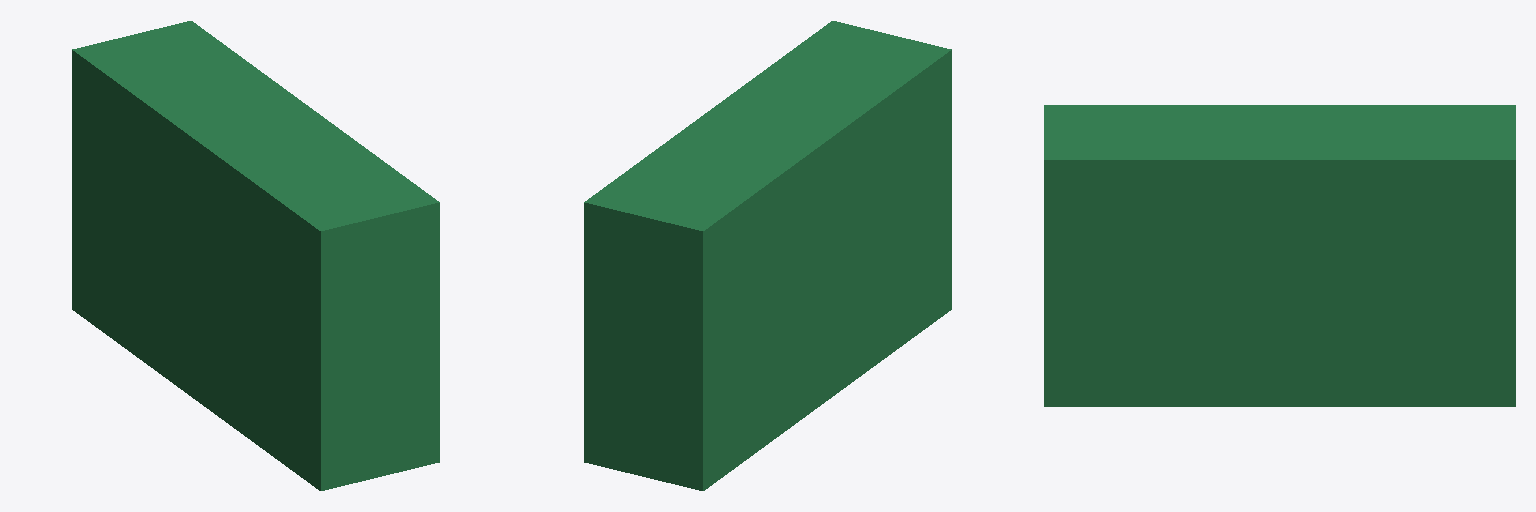
robot.urdf — random_box:
<?xml version='1.0' encoding='UTF-8'?>
<robot name="random_box">
  <link name="box">
    <visual>
      <geometry>
        <box size="0.014415126637743289 0.05197610526765483 0.03"/>
      </geometry>
      <material name="color">
        <color rgba="0.24136897618387543 0.5560610909150081 0.36251657057081266 1"/>
      </material>
    </visual>
    <collision>
      <geometry>
        <box size="0.014415126637743289 0.05197610526765483 0.03"/>
      </geometry>
    </collision>
  </link>
</robot>

--- Facts derived from the render (not from the file) ---
3 views of the same robot in one strip: view 1: azimuth 30°, elevation 25°; view 2: azimuth 150°, elevation 25°; view 3: azimuth 270°, elevation 25° (orthographic).
Robot: random_box — 1 links, 0 joints (none); root link box; default pose: all joints at 0.
Visible links, largest first — view 1: box; view 2: box; view 3: box.
Link boxes in pixels (<box>): box: <box>72,21,439,490</box>; box: <box>584,21,951,490</box>; box: <box>1044,105,1515,406</box>.
Size in the robot's own frame: 0.0144 by 0.052 by 0.03 metres.
Geometry: primitives only (box / cylinder / sphere), no mesh files.